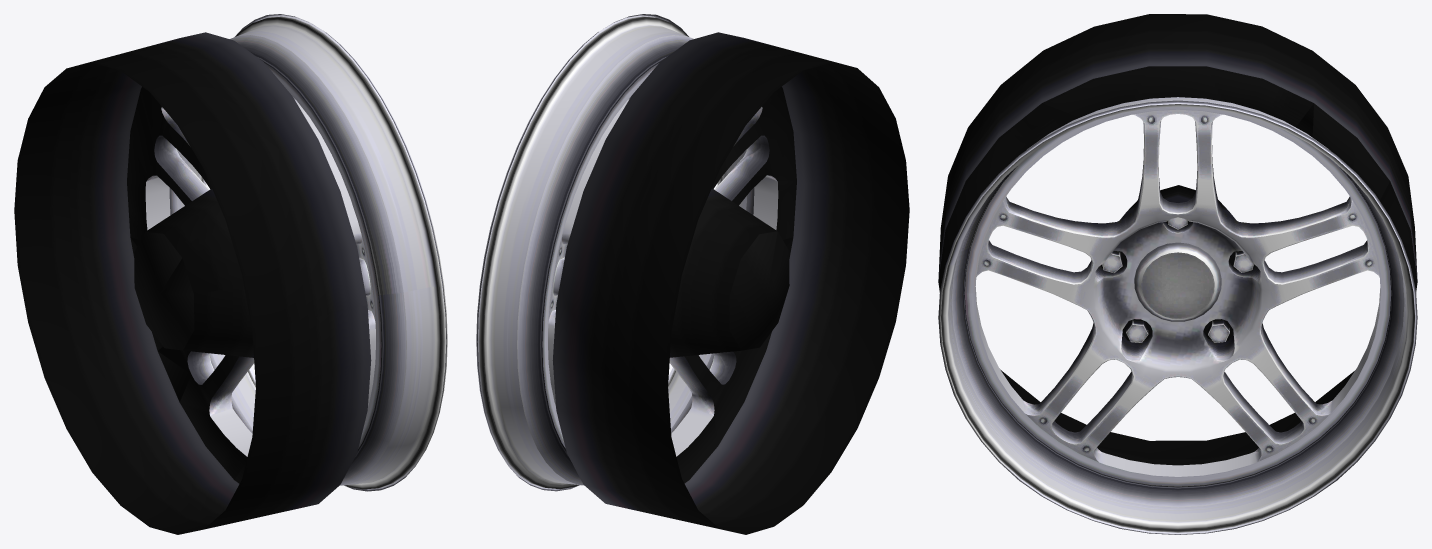
Rendered from wheel60.fbx.
3 renders of one model, left to right at view 1: azimuth 30°, elevation 25°; view 2: azimuth 150°, elevation 25°; view 3: azimuth 270°, elevation 25°, orthographic.
Parts seen in each view (by area): view 1: fik_profil5s_wheel_wheel_inner_rim_, wheel_rim, fik_profil5s_wheel_wheel_rim_; view 2: fik_profil5s_wheel_wheel_inner_rim_, wheel_rim, fik_profil5s_wheel_wheel_rim_; view 3: fik_profil5s_wheel_wheel_rim_, wheel_rim, fik_profil5s_wheel_wheel_inner_rim_.
Part boxes in pixels (x1,y1,x2,y2): fik_profil5s_wheel_wheel_inner_rim_: [14, 32, 371, 534]; wheel_rim: [169, 14, 447, 491]; fik_profil5s_wheel_wheel_rim_: [145, 97, 436, 456]; fik_profil5s_wheel_wheel_inner_rim_: [552, 32, 909, 534]; wheel_rim: [476, 14, 754, 491]; fik_profil5s_wheel_wheel_rim_: [548, 20, 778, 456]; fik_profil5s_wheel_wheel_rim_: [949, 109, 1380, 476]; wheel_rim: [938, 97, 1417, 534]; fik_profil5s_wheel_wheel_inner_rim_: [938, 14, 1417, 465].
Bounding box in the file's own units: 0.2282 × 0.5042 × 0.504.
1 material, 1 textured.
